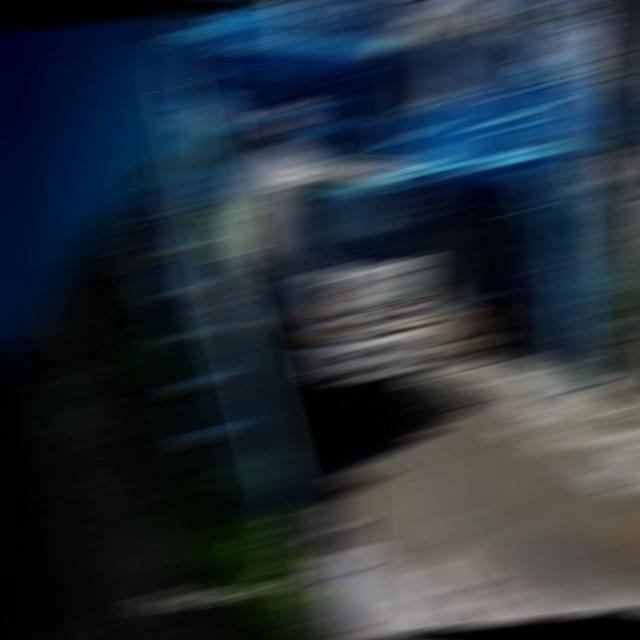cement_mixer_truck: (219, 143, 433, 430)
